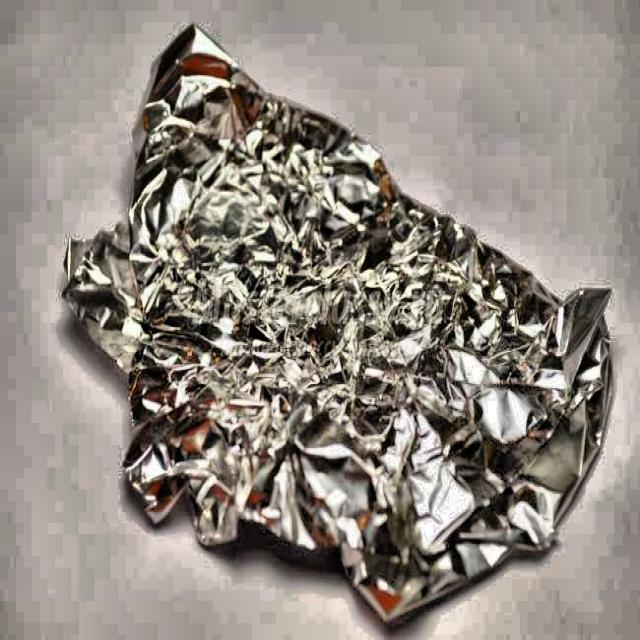Foil: (55, 19, 616, 627)
